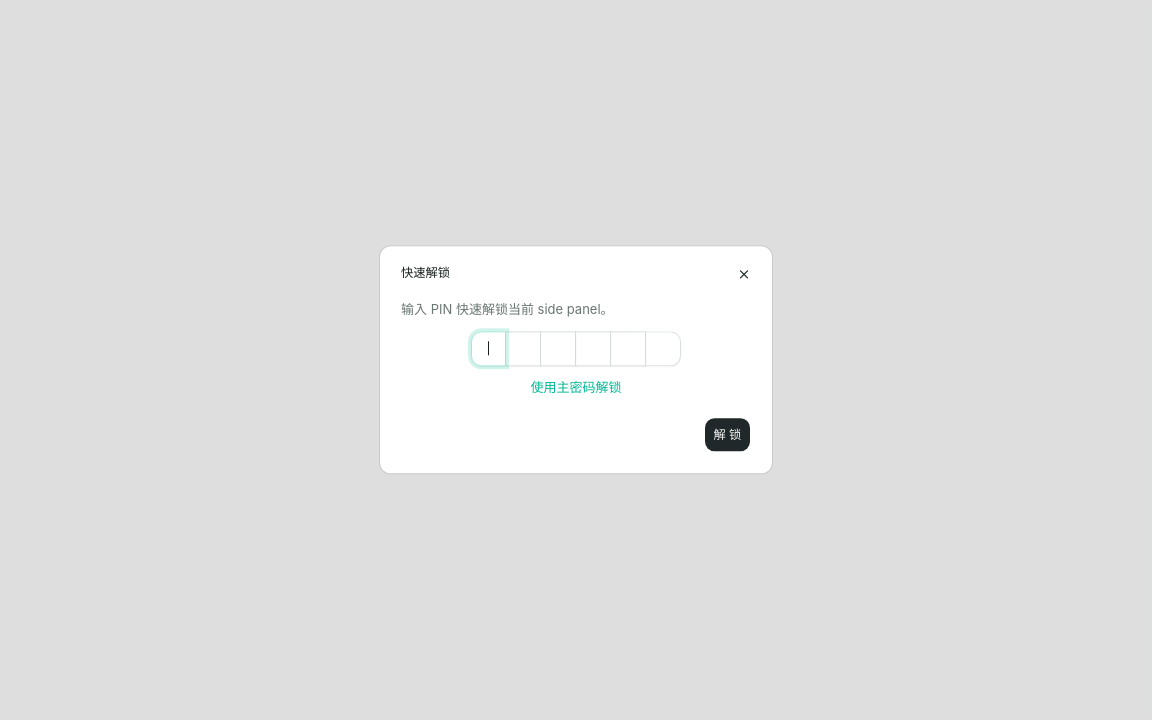
SidePanelUnlockModal — 快速解锁 PIN（#96） › PIN 失败后信封消失（熔断）→ 自动落回主密码输入
Type "0000" into the field named "PIN" at x=596, y=349, box left=401, top=331, right=791, bottom=366
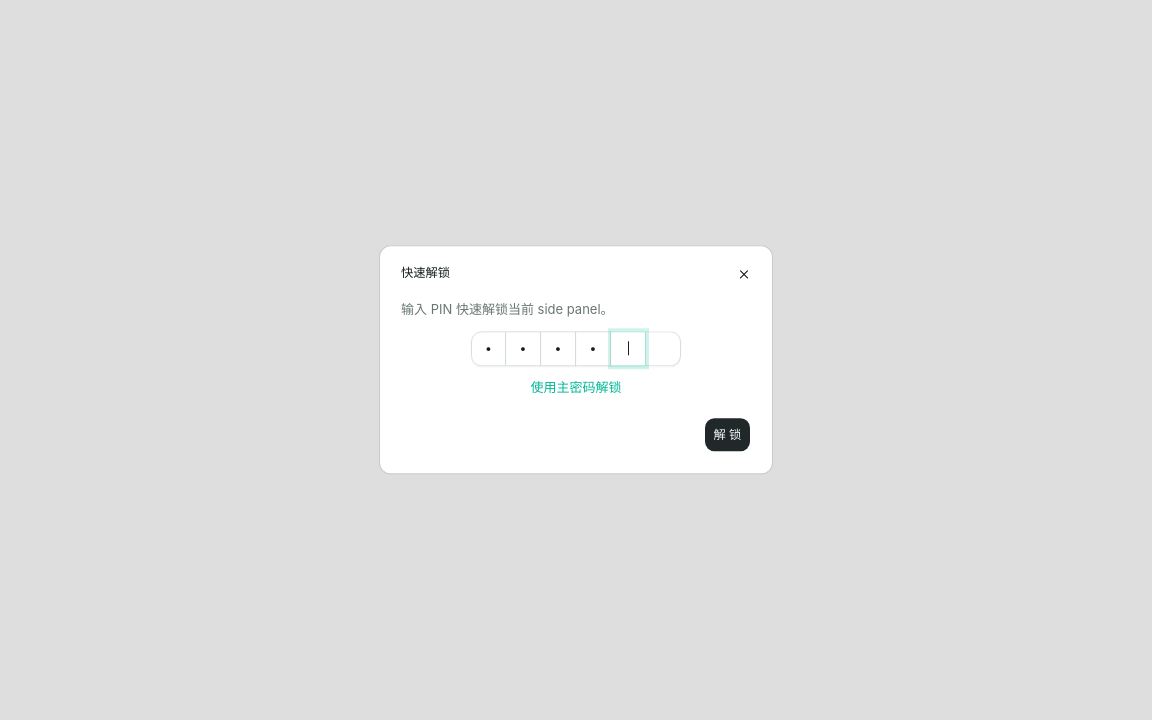
Click the button "解 锁" at x=727, y=435, box left=704, top=418, right=751, bottom=453
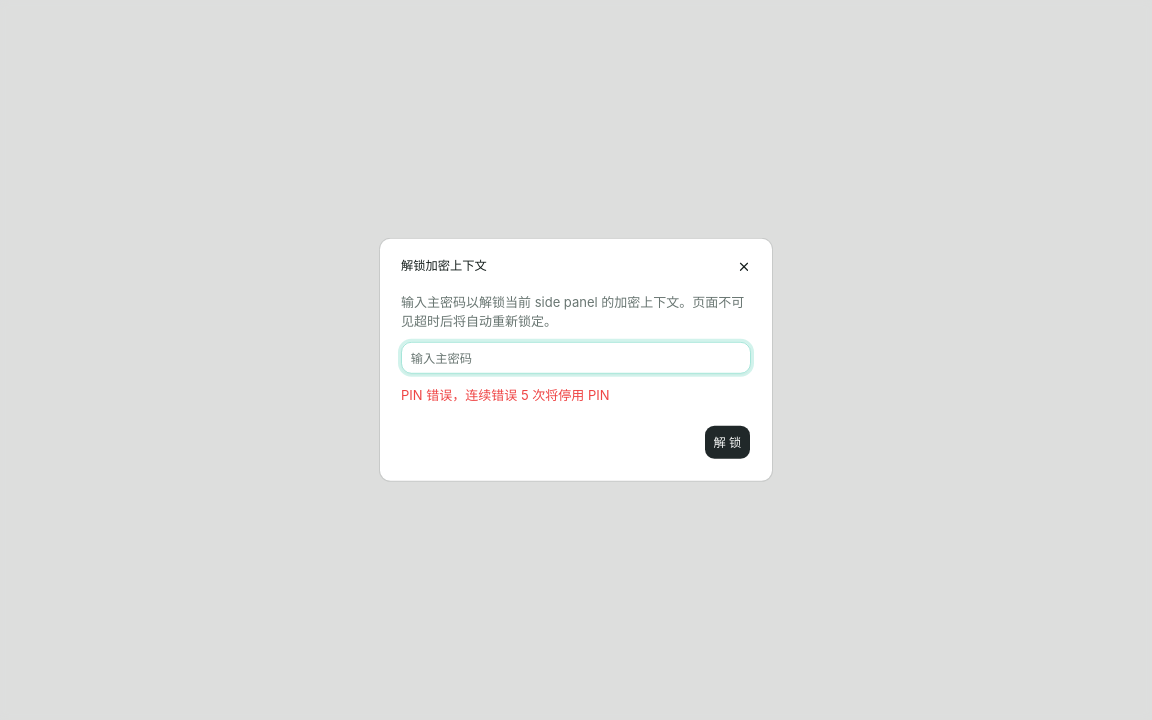
Now the password field with placeholder "输入主密码" is shown, box left=401, top=342, right=751, bottom=374
